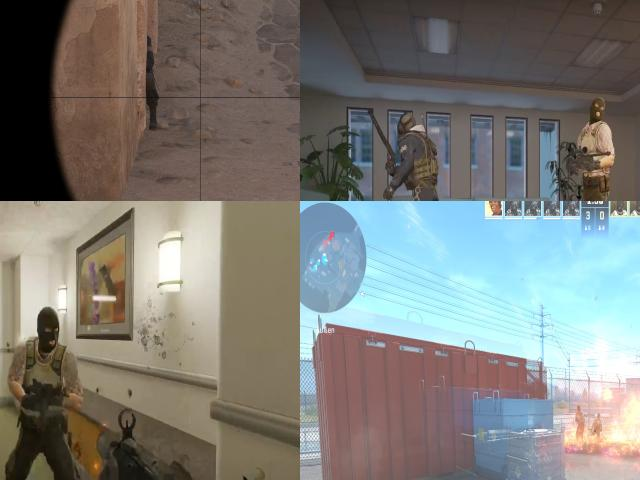CT: (391, 105, 443, 189), (147, 32, 157, 120)
CT-Head: (397, 108, 424, 144)
Dead: (592, 412, 604, 439)
T: (7, 338, 83, 426), (575, 110, 614, 195), (575, 406, 585, 439)
T-Head: (27, 301, 71, 364), (584, 94, 608, 129), (577, 406, 581, 412)
